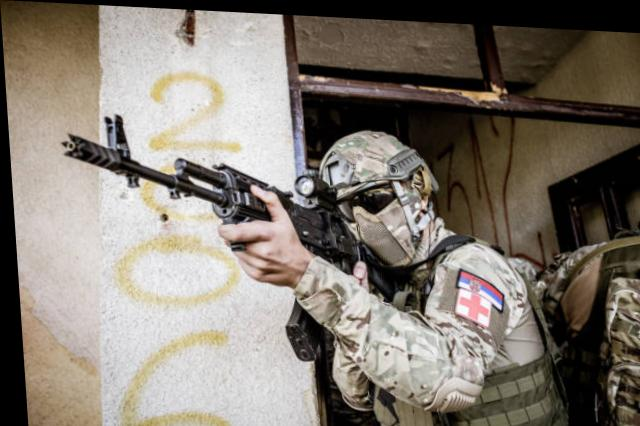other: (218, 121, 570, 424)
